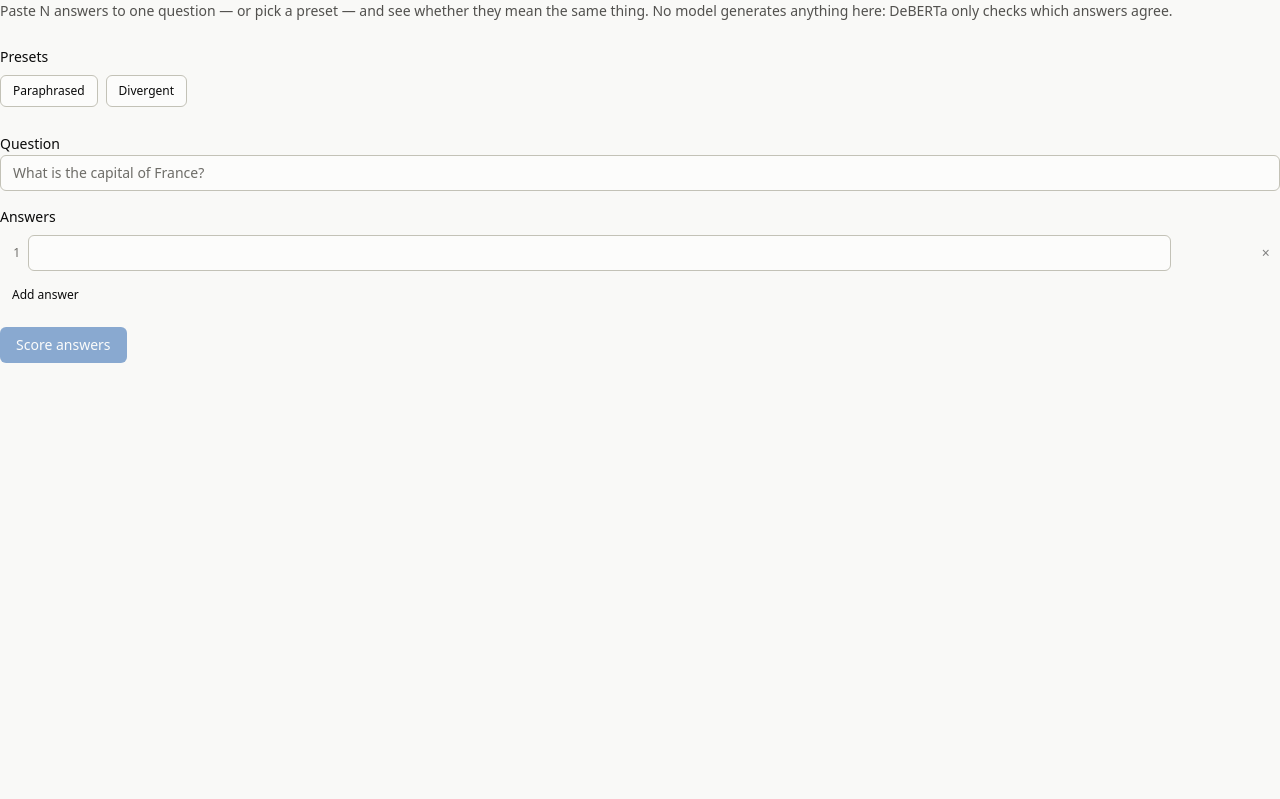
Test: ScoreTab › flips escalate with the threshold slider, without a network request
This screenshot has width=1280, height=799.
Click the button "divergent" at (146, 91), box [106, 75, 187, 107]
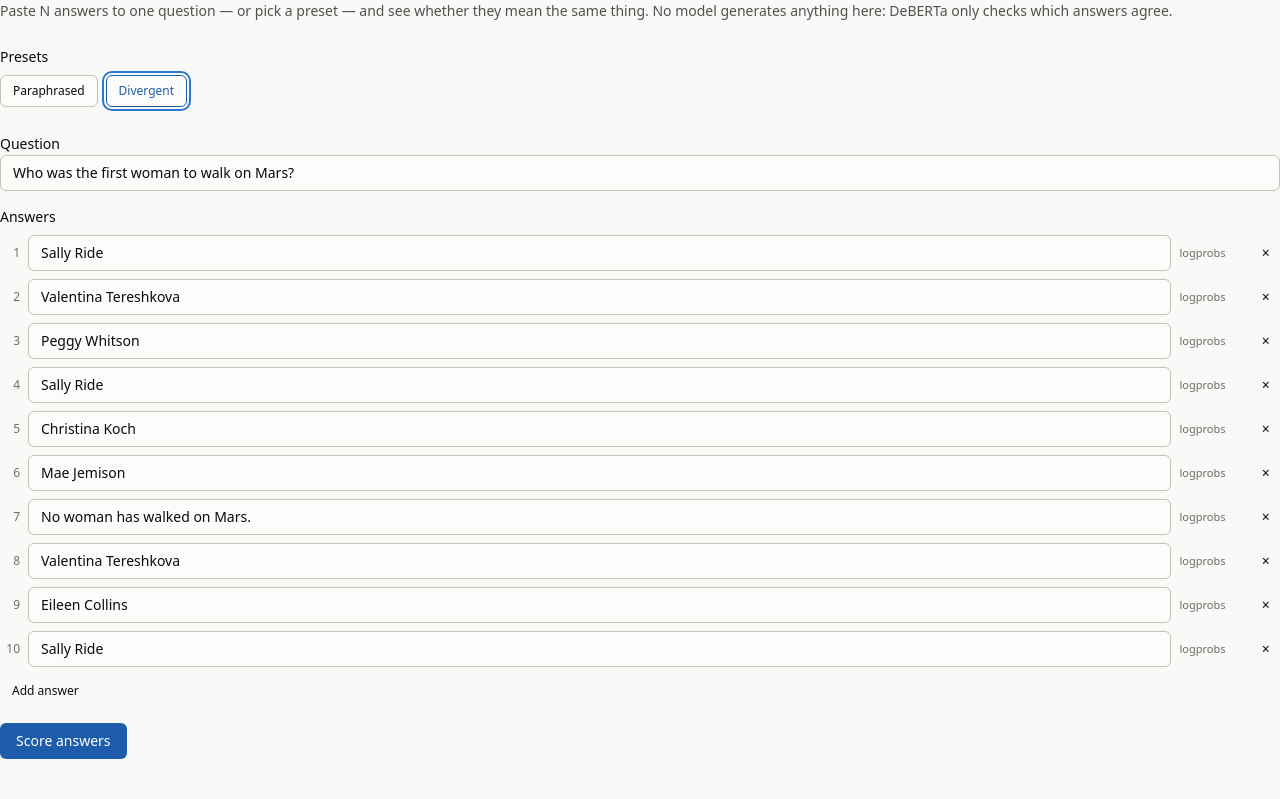
Click the button "Score answers" at (63, 741), box [0, 723, 126, 759]
(page scrolled)
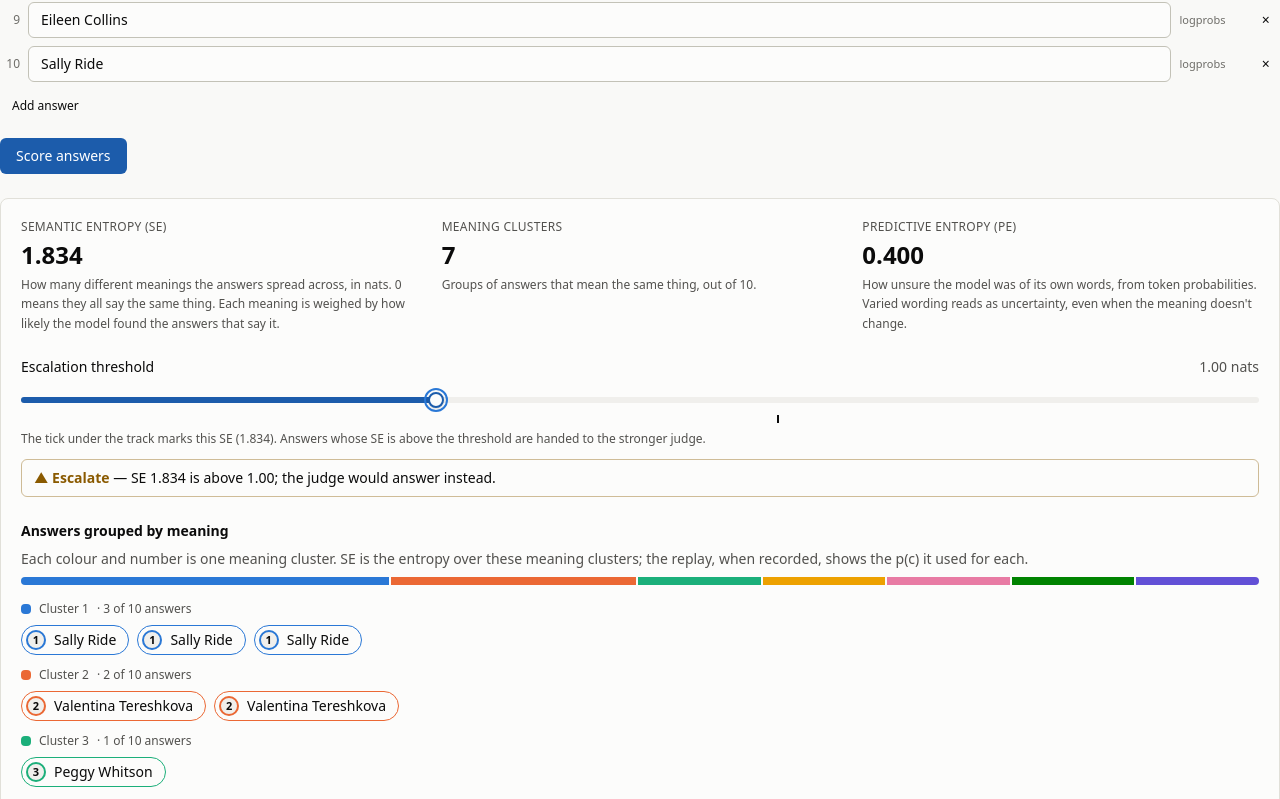
Expected: the message named "Escalation decision" does not show "don't escalate", [21, 459, 1259, 497]
Expected: the message named "Escalation decision" shows "Escalate", [34, 468, 110, 487]
Press End
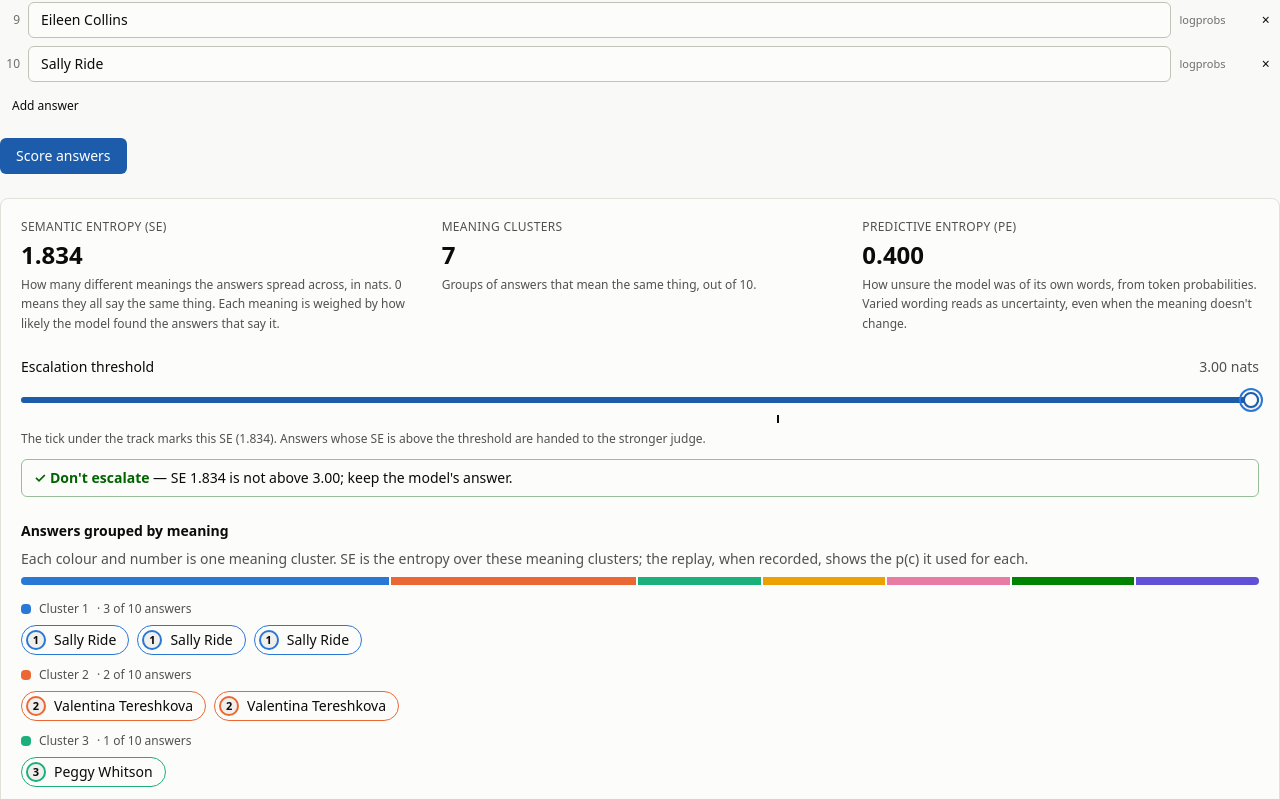
Expected: the message named "Escalation decision" shows "Don't escalate", [34, 468, 150, 487]
